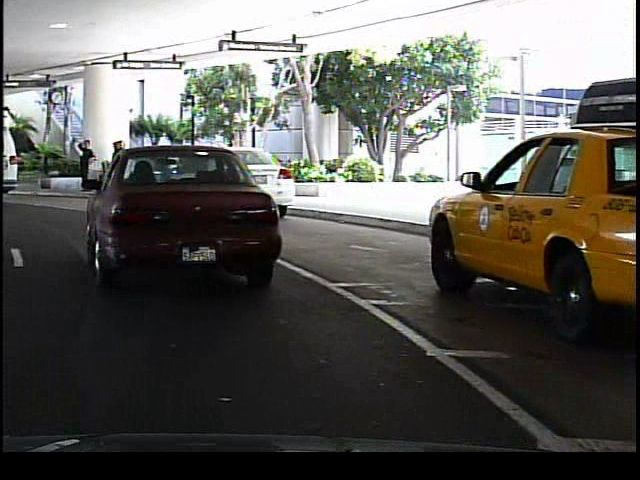person: (69, 138, 93, 196), (155, 145, 182, 196), (106, 139, 128, 192)
